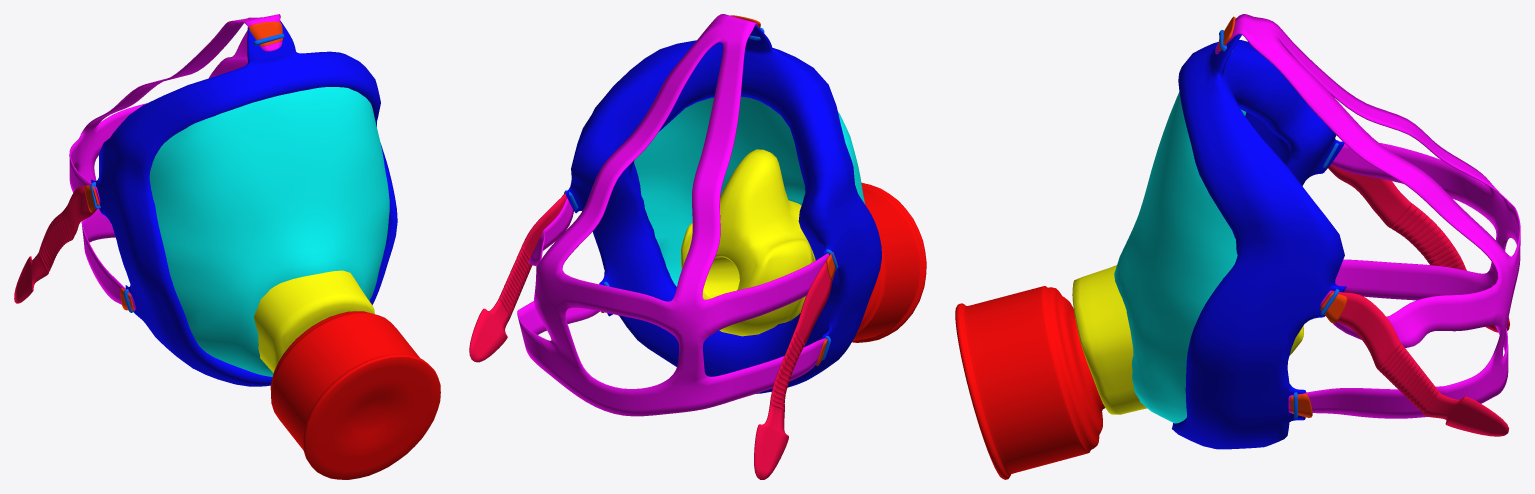
The picture shows the model from 3 angles, left to right: view 1: azimuth 30°, elevation 25°; view 2: azimuth 150°, elevation 25°; view 3: azimuth 270°, elevation 25°; orthographic projection. The views are drawn at different scales.
Visible parts, largest first — view 1: glass, rama, filter, remni, mask, derj1, lip5; view 2: rama, remni, glass, mask, filter, derj1, derj2; view 3: rama, remni, filter, glass, mask, derj2, derj1.
Part boxes in pixels (bbox=[...]): glass: bbox=[149, 87, 389, 376]; rama: bbox=[91, 21, 397, 386]; filter: bbox=[270, 311, 440, 479]; remni: bbox=[69, 14, 282, 310]; mask: bbox=[254, 270, 374, 372]; derj1: bbox=[14, 186, 99, 303]; lip5: bbox=[249, 21, 282, 46]; rama: bbox=[565, 25, 881, 393]; remni: bbox=[517, 14, 828, 416]; glass: bbox=[634, 96, 865, 286]; mask: bbox=[681, 149, 815, 336]; filter: bbox=[852, 182, 926, 342]; derj1: bbox=[754, 259, 832, 479]; derj2: bbox=[469, 193, 566, 362]; rama: bbox=[1172, 34, 1346, 449]; remni: bbox=[1215, 14, 1520, 418]; filter: bbox=[955, 286, 1105, 479]; glass: bbox=[1114, 92, 1246, 423]; mask: bbox=[1072, 265, 1303, 414]; derj2: bbox=[1322, 290, 1509, 436]; derj1: bbox=[1328, 164, 1509, 332].
Size of the model in its own units: 1.38 by 1.75 by 2.
